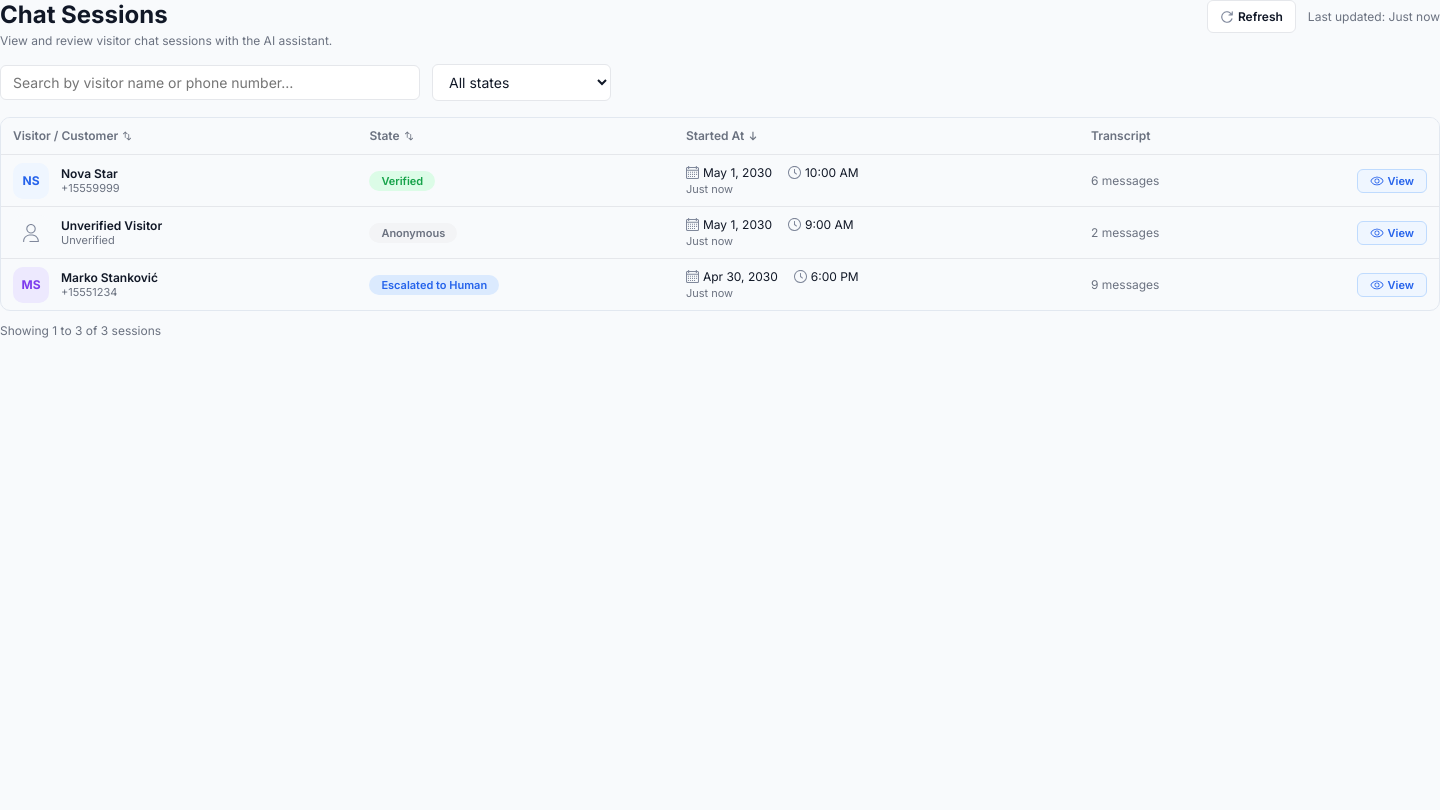
Scenario: SessionManager › opens the transcript modal with the real messages on View
This screenshot has width=1440, height=810.
Click the button "View" in the row of "Nova Star": (1392, 180) [1356,168,1427,192]
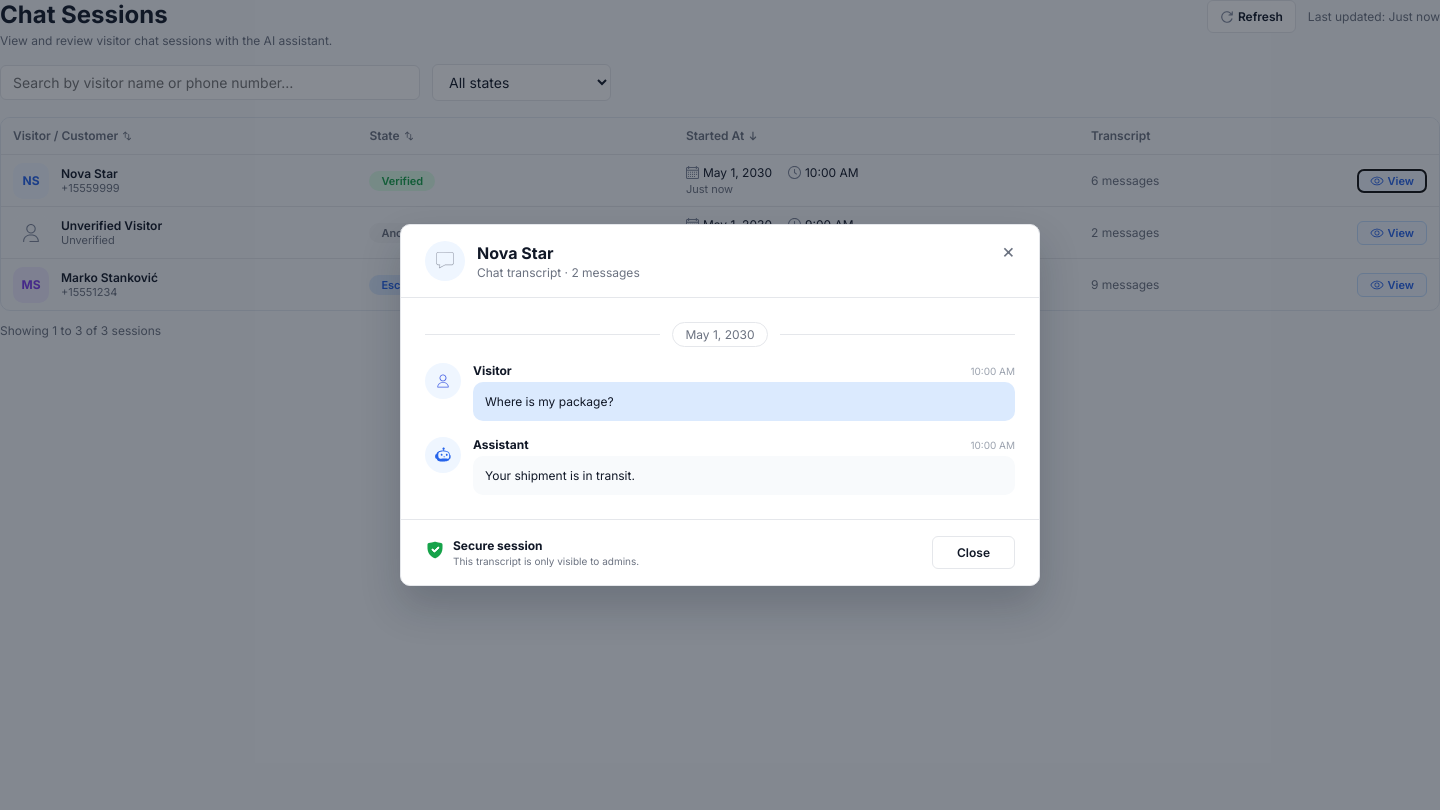
Expected: the text "Where is my package?" is shown, [473,382,1015,421]
Expected: the text "Your shipment is in transit." is shown, [473,456,1015,495]
